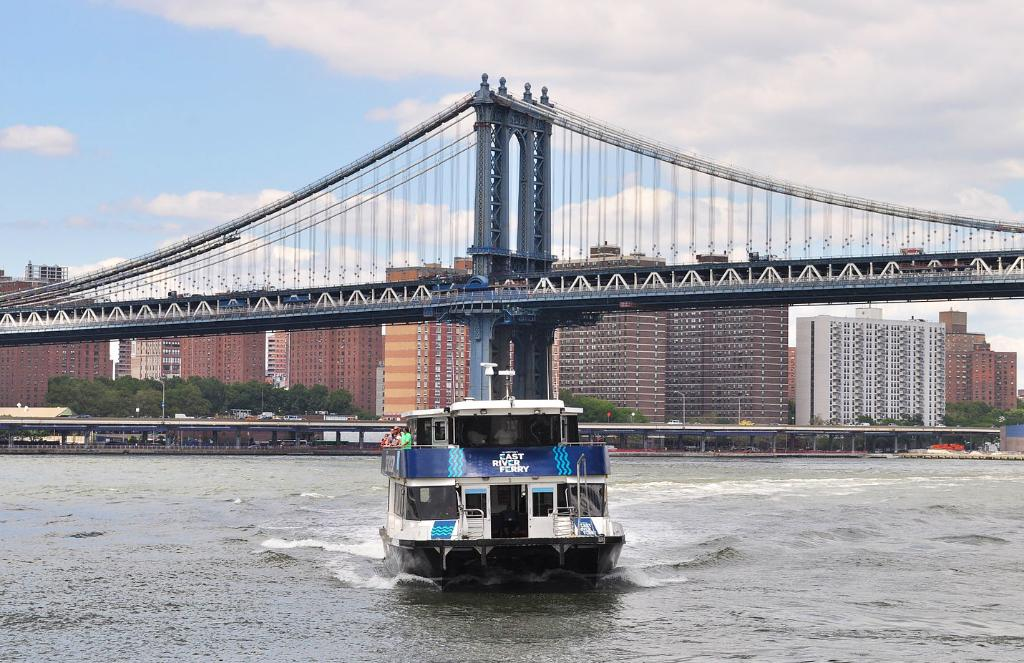PassengerShip: (348, 354, 648, 598)
